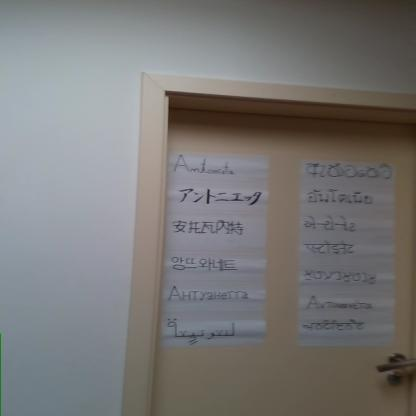closed: (130, 70, 416, 416)
